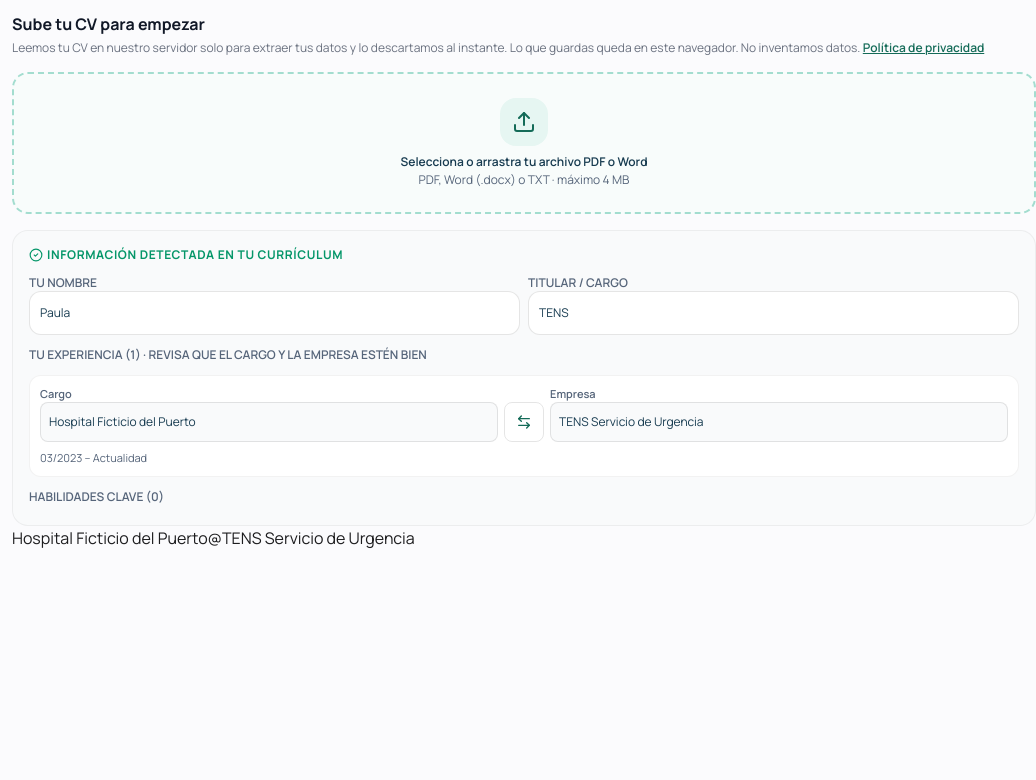
it: Confirmar experiencias en la guía › permite editar el cargo
Replace the text in the field labelled "Empresa" with "Hospital del Puerto". click: [779, 422]
box: [550, 402, 1008, 442]
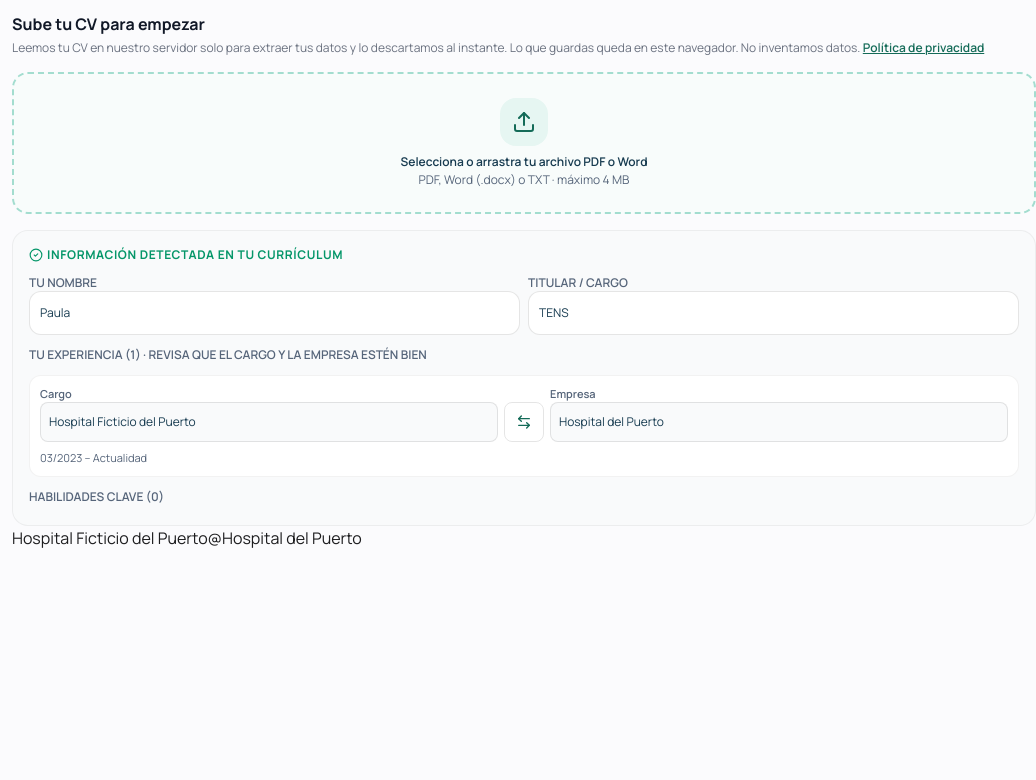
Now the text with test id "state" shows "@Hospital del Puerto", box [12, 527, 362, 549]
